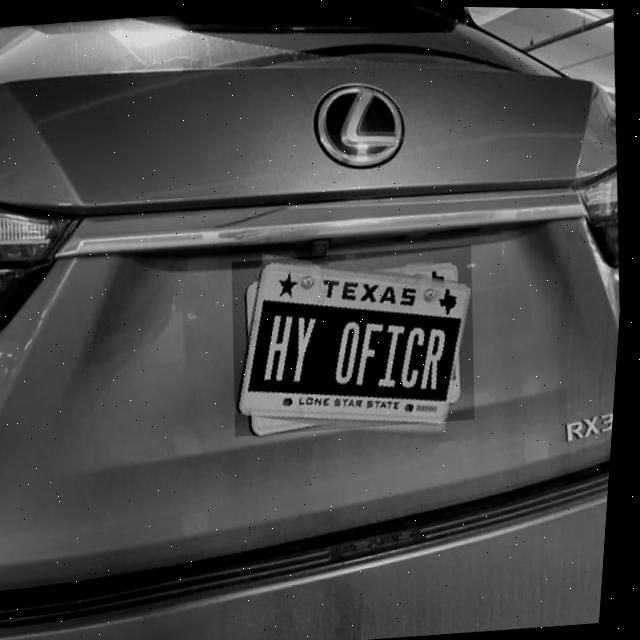LicensePlate: (240, 259, 475, 420)
